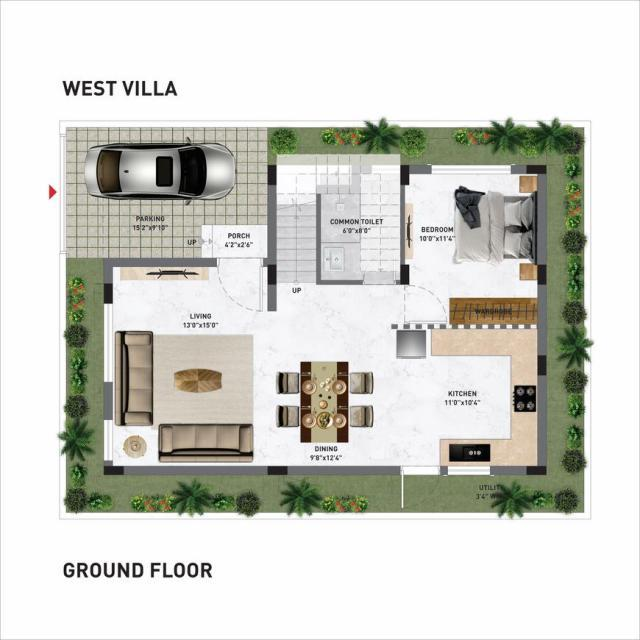Bedroom: (401, 166, 548, 331)
Dining: (273, 360, 381, 448)
Kitchen: (390, 324, 549, 477)
Living: (102, 258, 277, 476)
Toilet: (319, 163, 410, 285)
